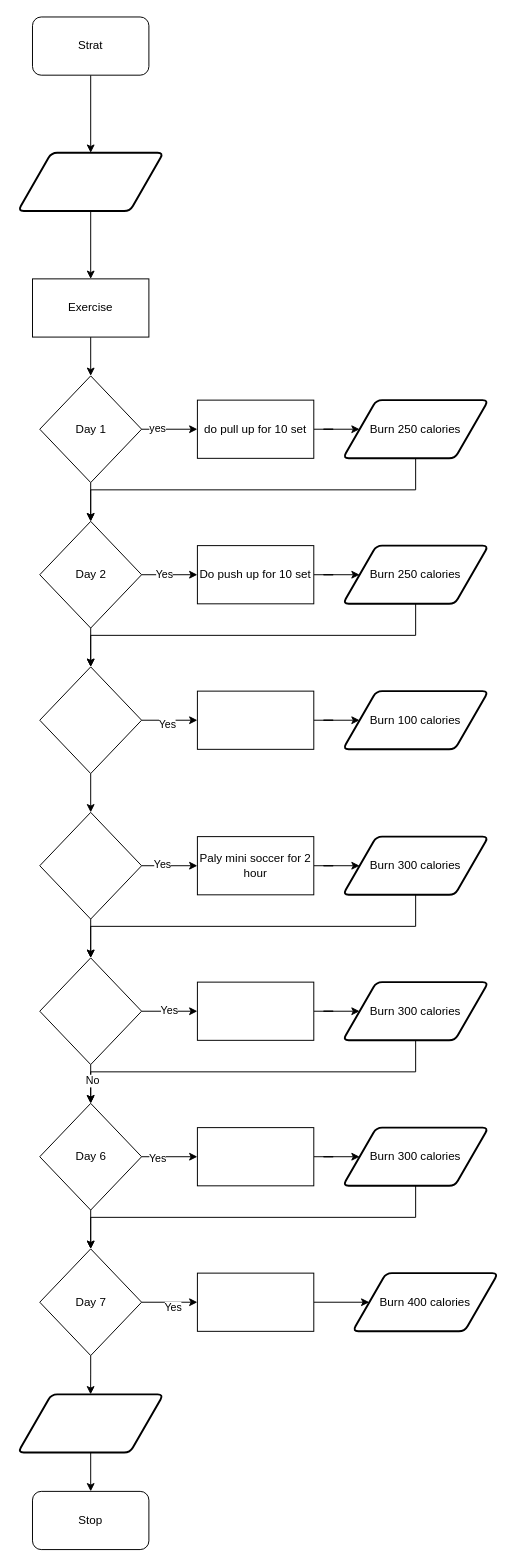
Image size: 515x1567. Some labels were removed from this diagram. The shapes that lost their labels are listed below. From the top down, each one's box as (x1, y1, x2, y2) in pixels, then its label:
(16, 151, 164, 211): totalCalories = 2.000
(39, 666, 142, 774): Day 3
(196, 690, 314, 749): play basketball for 2 hour
(39, 811, 142, 919): Day 4
(39, 957, 142, 1065): Day 5
(196, 981, 314, 1040): Running for 2 km
(196, 1127, 314, 1186): cycling for 2 km
(196, 1272, 314, 1331): swim
(16, 1393, 164, 1453): Calorie who already burn is 2.000
